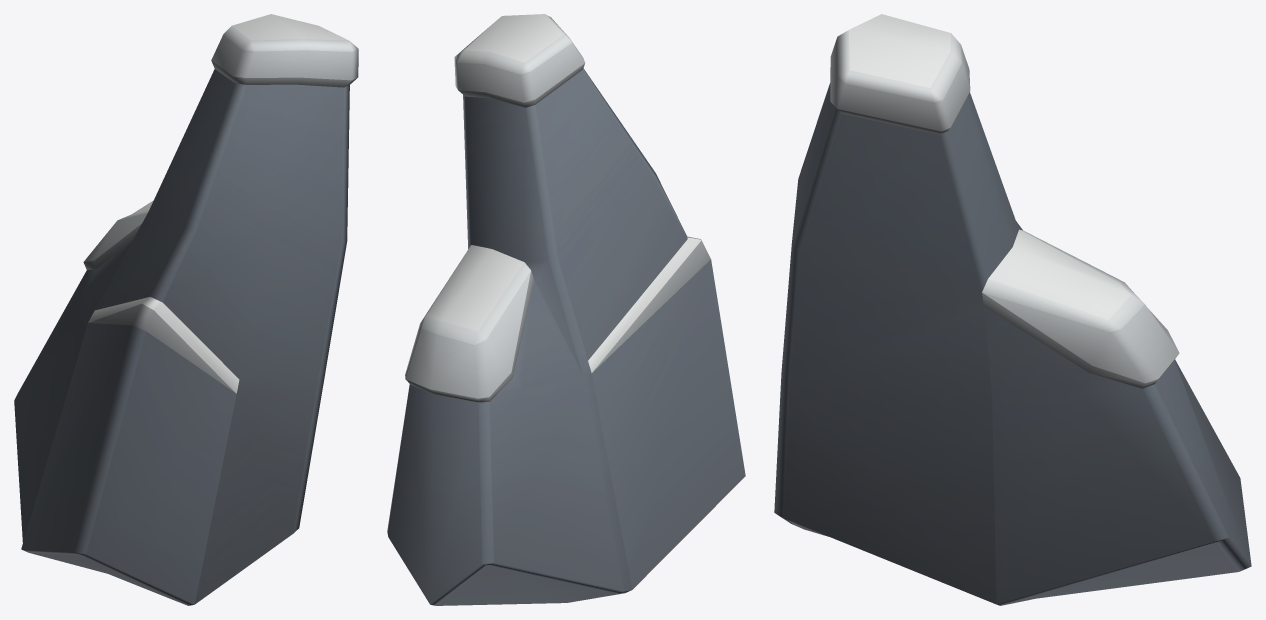
Rendered from rock_snow_027.fbx.
3 views of the same model, side by side, from view 1: azimuth 30°, elevation 25°; view 2: azimuth 150°, elevation 25°; view 3: azimuth 270°, elevation 25° (orthographic). The views are drawn at different scales.
Visible parts, largest first — view 1: rock_snow_027; view 2: rock_snow_027; view 3: rock_snow_027.
Part boxes in pixels (left/top/right/bottom): rock_snow_027: left=14, top=14, right=358, bottom=605; rock_snow_027: left=387, top=14, right=745, bottom=605; rock_snow_027: left=774, top=14, right=1251, bottom=605.
Bounding box in the file's own units: 383 × 720 × 496.
